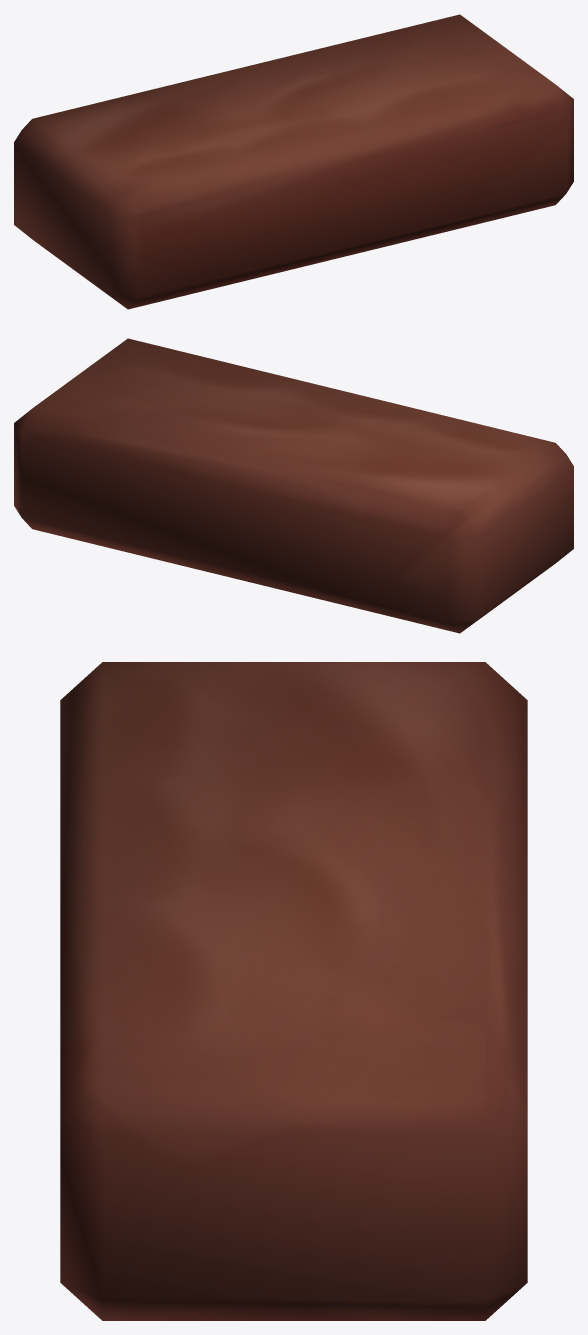
The model's file is chocolateBar.fbx.
3 views of the same model, one above another, from view 1: azimuth 30°, elevation 25°; view 2: azimuth 150°, elevation 25°; view 3: azimuth 270°, elevation 25° (orthographic). The views are drawn at different scales.
Visible parts, largest first — view 1: chocolateBar; view 2: chocolateBar; view 3: chocolateBar.
Part boxes in pixels (x1,y1,x2,y2): chocolateBar: (14, 14, 573, 309); chocolateBar: (14, 338, 573, 633); chocolateBar: (60, 662, 527, 1320).
Bounding box in the file's own units: 18.35 × 4.55 × 7.99.
